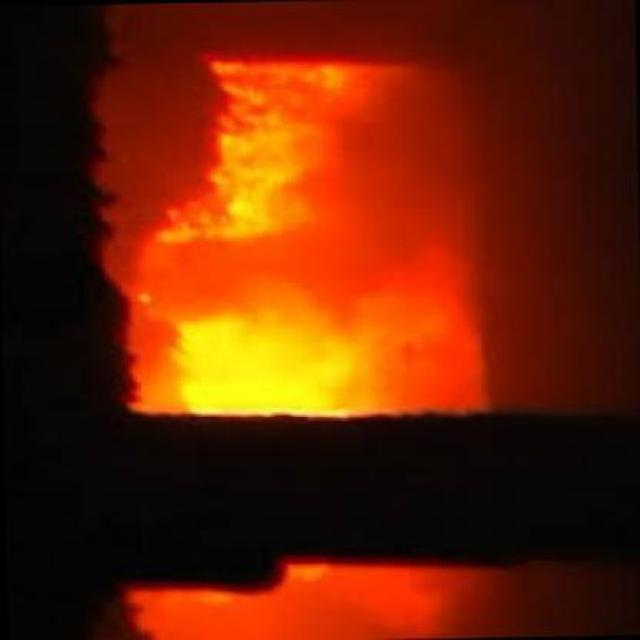Fire: (161, 55, 366, 248), (150, 288, 422, 428), (208, 556, 370, 636)
